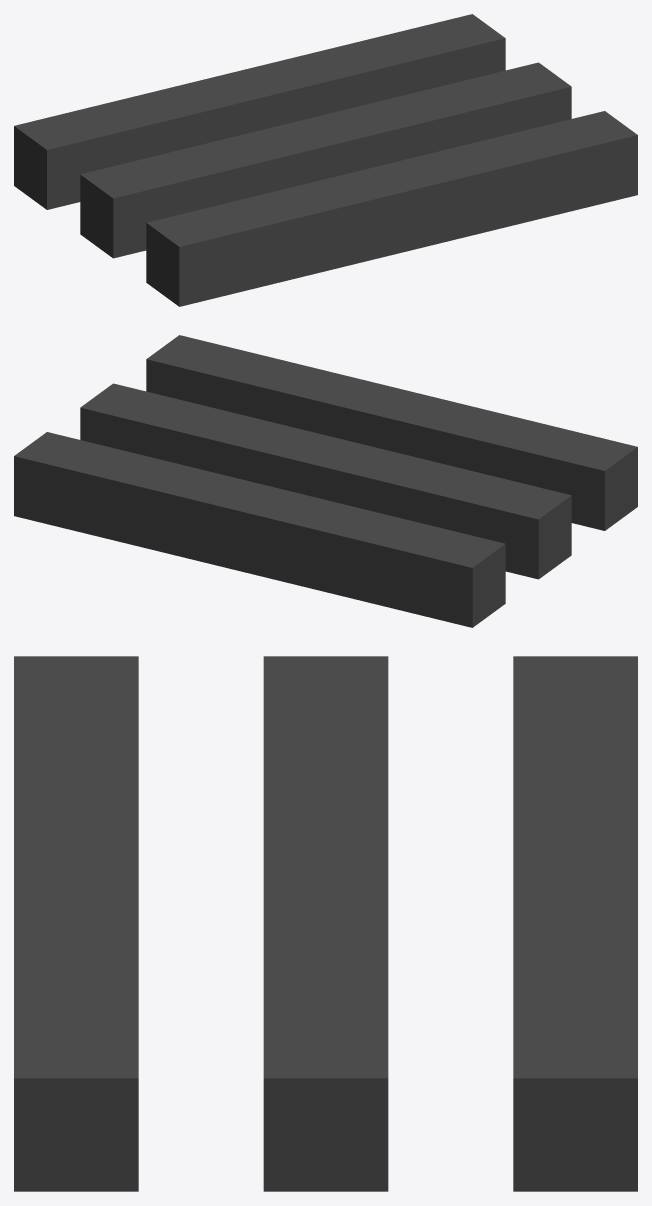
The model's file is LightTank-0.obj.
The picture shows the model from 3 angles, top to bottom: view 1: azimuth 30°, elevation 25°; view 2: azimuth 150°, elevation 25°; view 3: azimuth 270°, elevation 25°; orthographic projection. The views are drawn at different scales.
Bounding box in the file's own units: 0.8 × 0.1 × 0.5.
